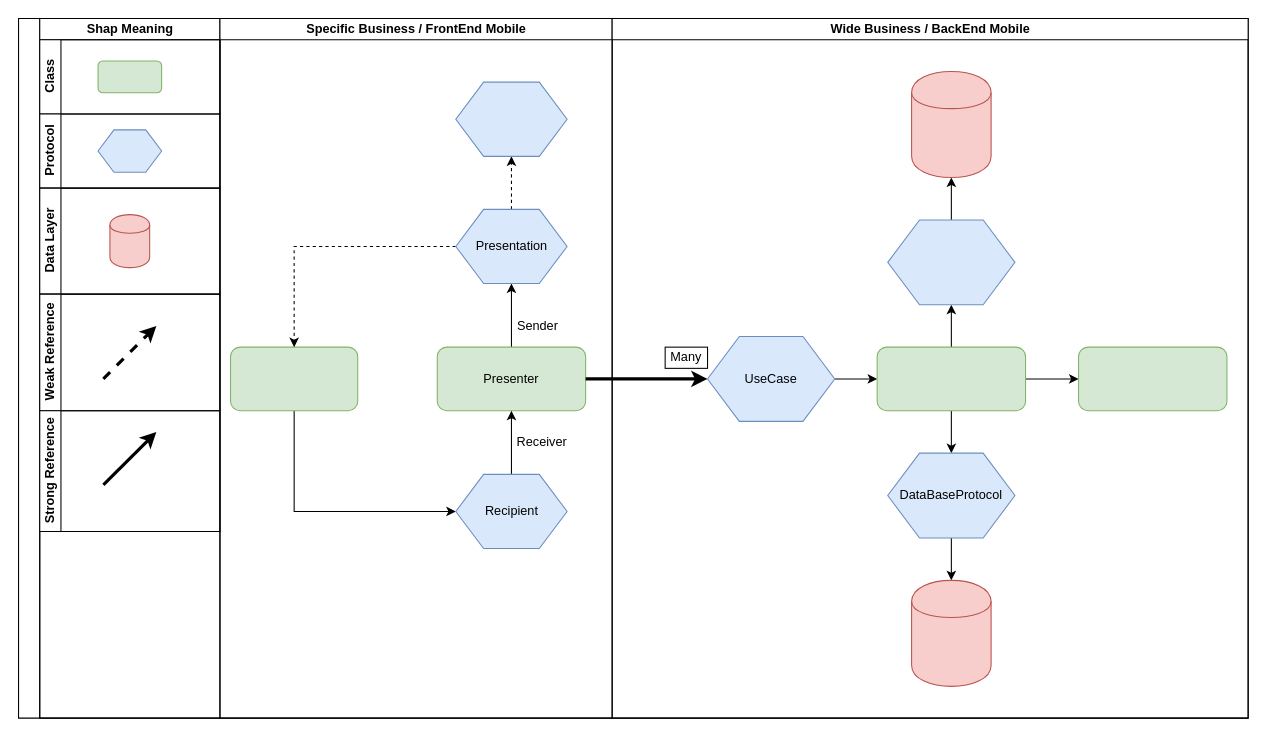
Some shapes in this 1267 by 737 pixel diagram are drawn without their labels. The centre of each missing label's shape, as x and y in pixels:
"APIUseCase" belongs at [951,378].
"DataBase" belongs at [951,632].
"Entity" belongs at [1152,378].
"Network" belongs at [951,124].
"NetworkProtocol" belongs at [951,262].
"Router" belongs at [511,118].
"View" belongs at [293,378].
